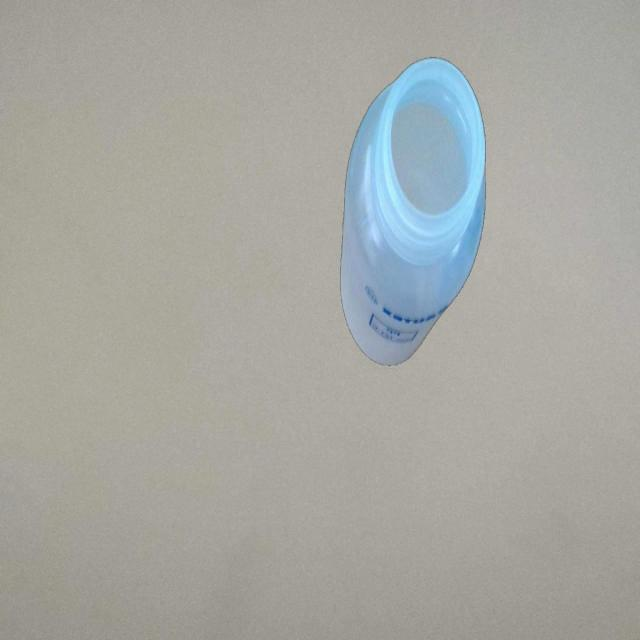bottle: (339, 52, 488, 372)
